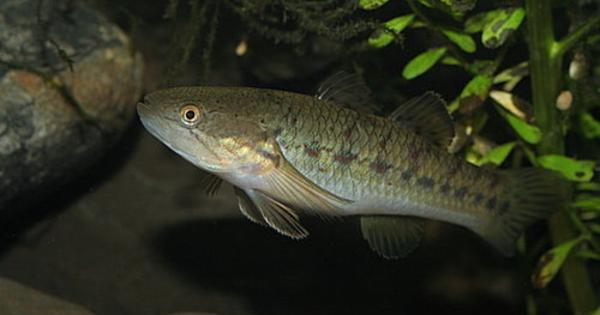Goby: (90, 59, 569, 262)
